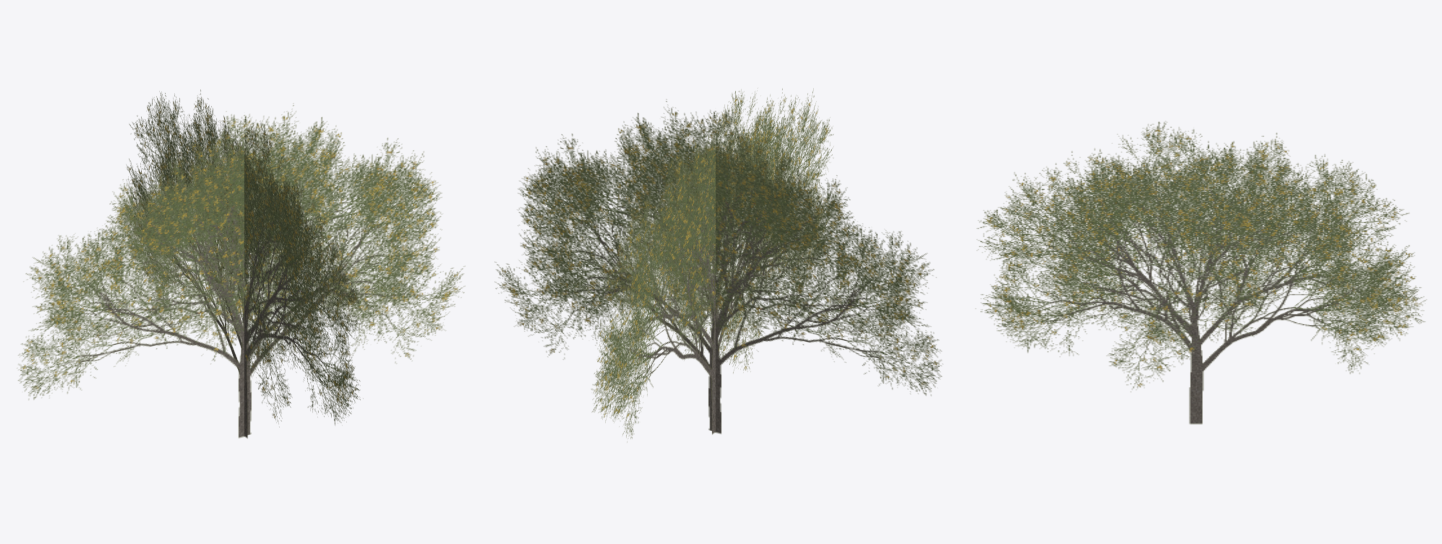
File: ParkinsoniaAculeata.glb
3 views of the same model, side by side, from view 1: azimuth 30°, elevation 25°; view 2: azimuth 150°, elevation 25°; view 3: azimuth 270°, elevation 25° (orthographic). The views are drawn at different scales.
Visible parts, largest first — view 1: mesh__mat_billboard_7; view 2: mesh__mat_billboard_7; view 3: mesh__mat_billboard_7.
Boxes of the visible parts, <box> form: mesh__mat_billboard_7: <box>18,90,464,438</box>; mesh__mat_billboard_7: <box>495,88,941,438</box>; mesh__mat_billboard_7: <box>977,122,1426,424</box>.
Bounding box in the file's own units: 10.97 × 7.81 × 10.31.
1 material, 1 textured.
